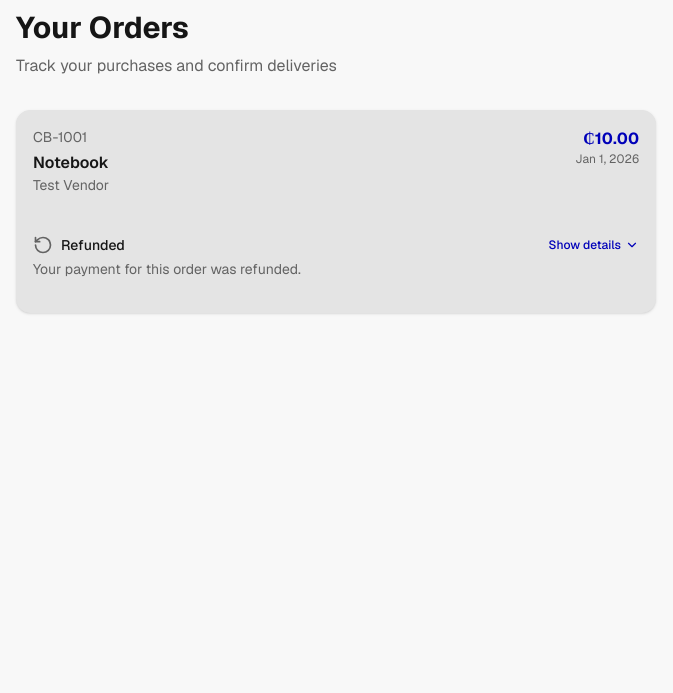
Test case: OrdersPage disputed order › shows the outcome and the admin's note once resolved
Click the heading "Notebook": {"x": 71, "y": 162} left=33, top=152, right=109, bottom=173
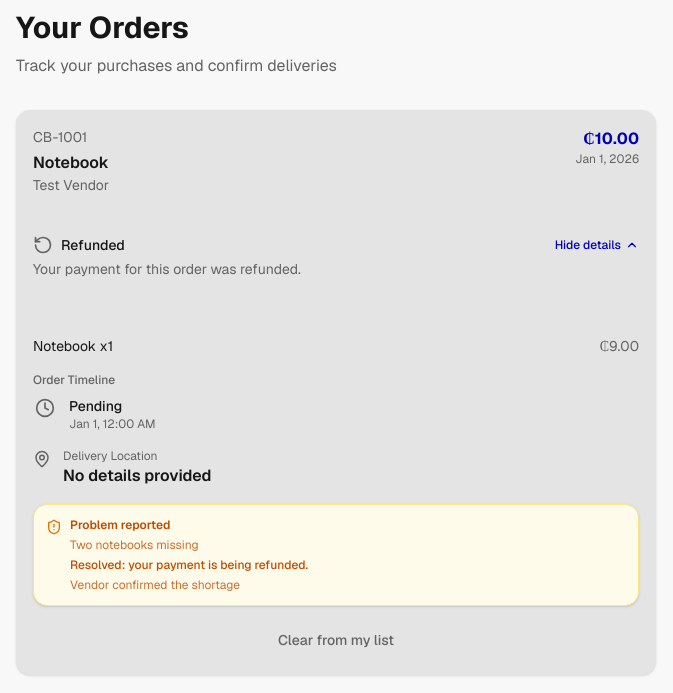
Check: the text "Resolved: your payment is being refunded." is shown, box left=70, top=557, right=308, bottom=573
Check: the text "Vendor confirmed the shortage" is shown, box left=70, top=577, right=240, bottom=593
